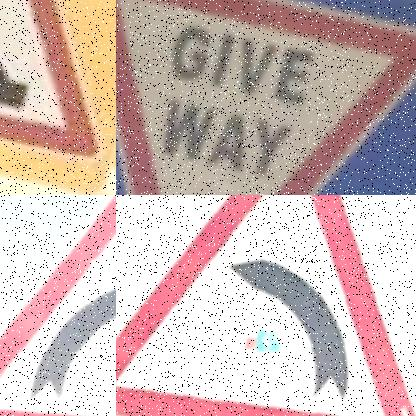Give Way: (116, 0, 416, 195), (116, 4, 408, 195)
Left bend: (116, 195, 416, 416)
Right bend: (0, 198, 116, 416)
